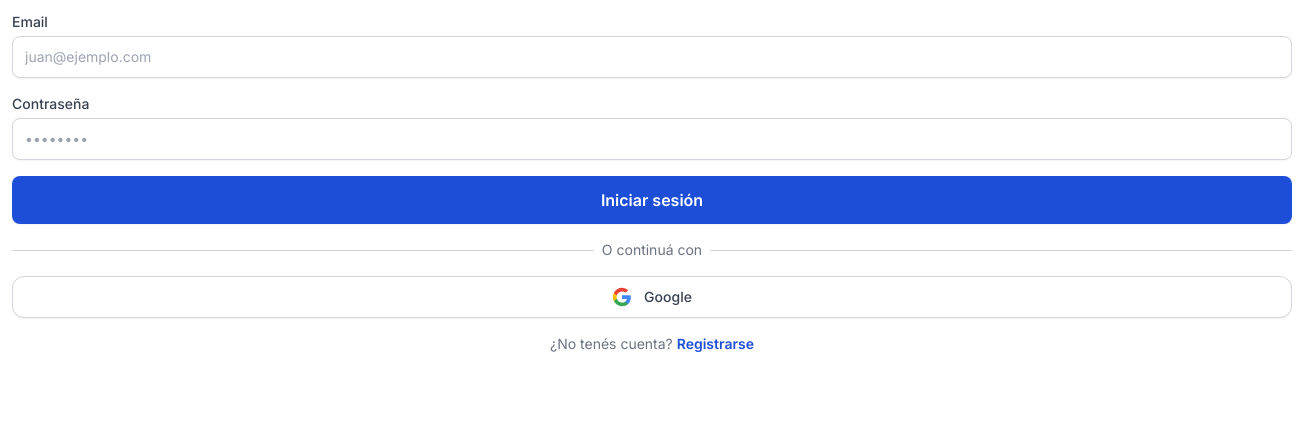
Test: LoginForm › muestra error del servidor en caso de fallo
In the field labelled "Email": (652,57) [12,36,1292,78], type "test@test.com"
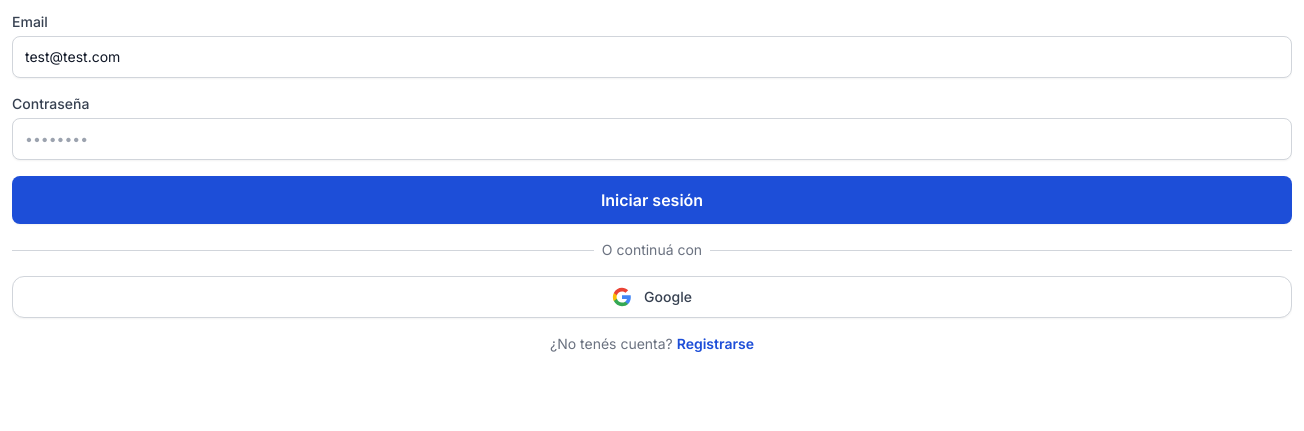
In the password field labelled "Contraseña": (652,139) [12,118,1292,160], type "wrong"
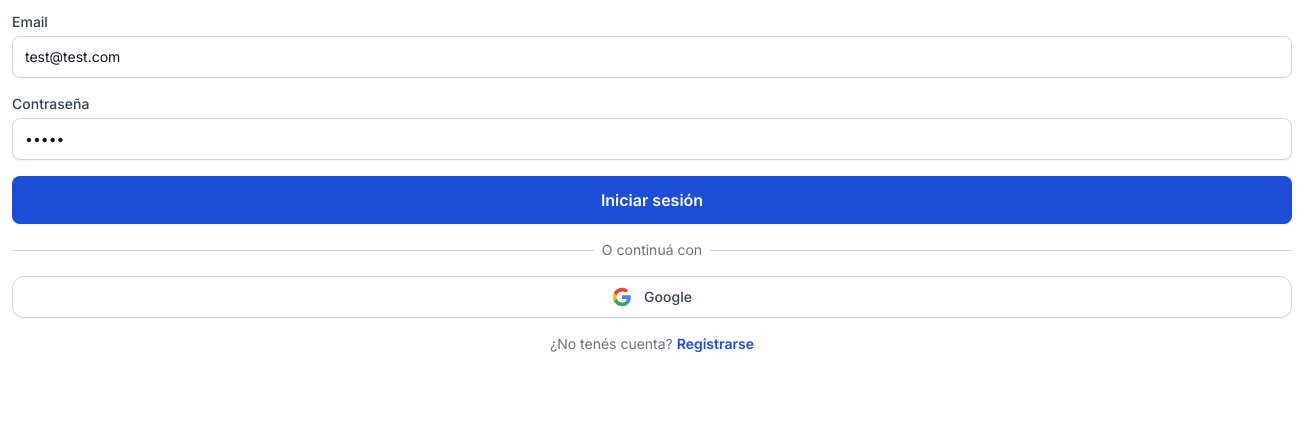
Click the button "Iniciar sesión": (652,200) [12,176,1292,224]
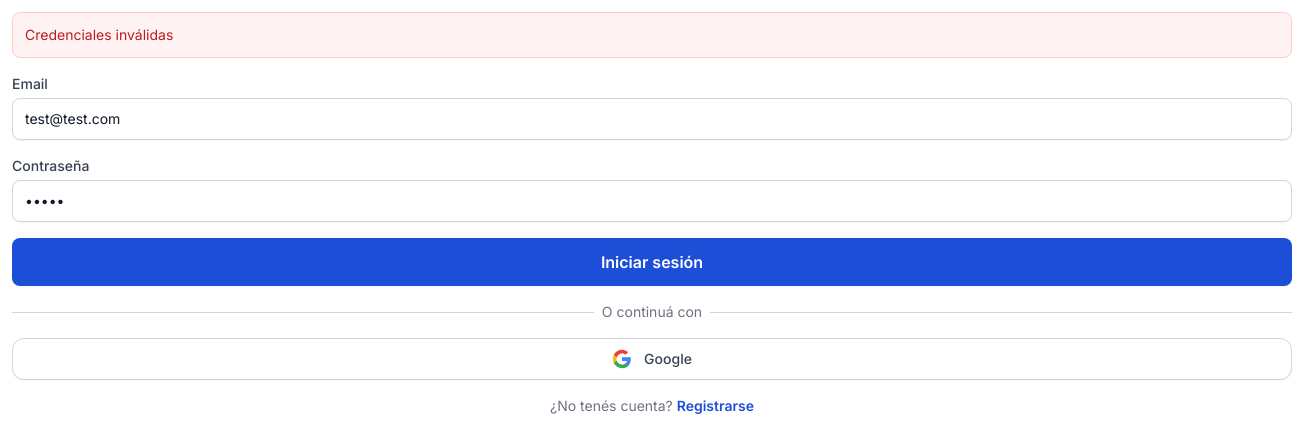
Now the text "Credenciales inválidas" is shown, box [12,12,1292,58]
